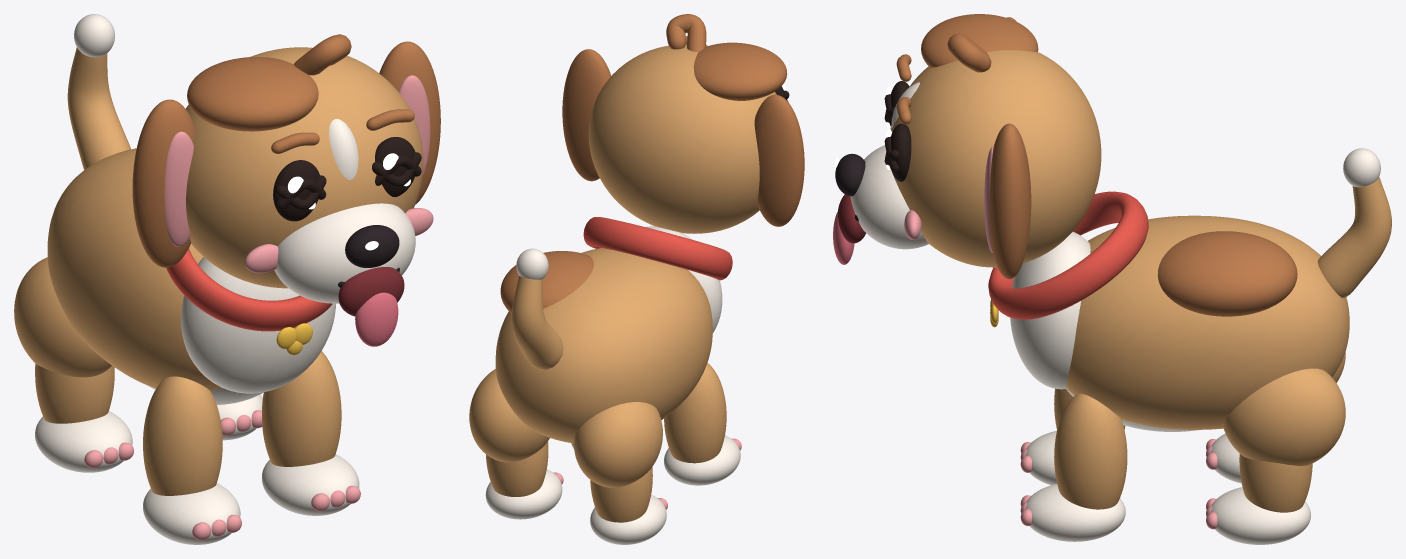
The model's file is perro.glb.
3 views of the same model, side by side, from view 1: azimuth 30°, elevation 25°; view 2: azimuth 150°, elevation 25°; view 3: azimuth 270°, elevation 25° (orthographic). The views are drawn at different scales.
Visible parts, largest first — view 1: cráneo perro, lomo perro, pecho perro, pata perro.002, mancha cabeza, hocico perro, pata perro, oreja perro.001, muslo perro.001, collar, cola perro, pie perro.003 (+22 smaller); view 2: lomo perro, cráneo perro, muslo perro.001, oreja perro.001, collar, mancha cabeza, pata perro.002, muslo perro, oreja perro, cola perro, mancha lomo, pata perro.003 (+7 smaller); view 3: lomo perro, cráneo perro, mancha lomo, muslo perro, collar, pata perro, pecho perro, oreja perro, cola perro, hocico perro, mancha cabeza, pie perro (+9 smaller).
Boxes of the visible parts, box(x1,y1,x2,y2) form: cráneo perro: box(186, 47, 423, 288); lomo perro: box(47, 148, 222, 390); pecho perro: box(181, 257, 335, 393); pata perro.002: box(143, 376, 222, 495); mancha cabeza: box(187, 57, 318, 131); hocico perro: box(274, 203, 415, 303); pata perro: box(262, 351, 341, 466); oreja perro.001: box(132, 99, 194, 267); muslo perro.001: box(14, 257, 111, 377); collar: box(166, 248, 332, 331); cola perro: box(67, 47, 130, 169); pie perro.003: box(35, 411, 132, 472); lomo perro: box(495, 248, 712, 443); cráneo perro: box(588, 44, 776, 233); muslo perro.001: box(573, 402, 662, 487); oreja perro.001: box(754, 94, 804, 226); collar: box(583, 217, 732, 280); mancha cabeza: box(693, 42, 787, 100); pata perro.002: box(664, 363, 726, 463); muslo perro: box(469, 369, 549, 462); oreja perro: box(562, 49, 611, 181); cola perro: box(511, 275, 563, 369); mancha lomo: box(500, 251, 593, 313); pata perro.003: box(590, 467, 652, 522); lomo perro: box(1066, 215, 1349, 429); cráneo perro: box(890, 50, 1101, 267); mancha lomo: box(1157, 231, 1297, 316); muslo perro: box(1222, 368, 1345, 465); collar: box(988, 191, 1148, 319); pata perro: box(1054, 393, 1127, 509); pecho perro: box(1010, 232, 1090, 389); oreja perro: box(989, 123, 1031, 279); cola perro: box(1317, 177, 1391, 297); hocico perro: box(850, 145, 928, 249); mancha cabeza: box(921, 14, 1038, 67); pie perro: box(1025, 484, 1125, 541).
Size of the model in its own units: 0.435 by 0.7177 by 0.7542.
